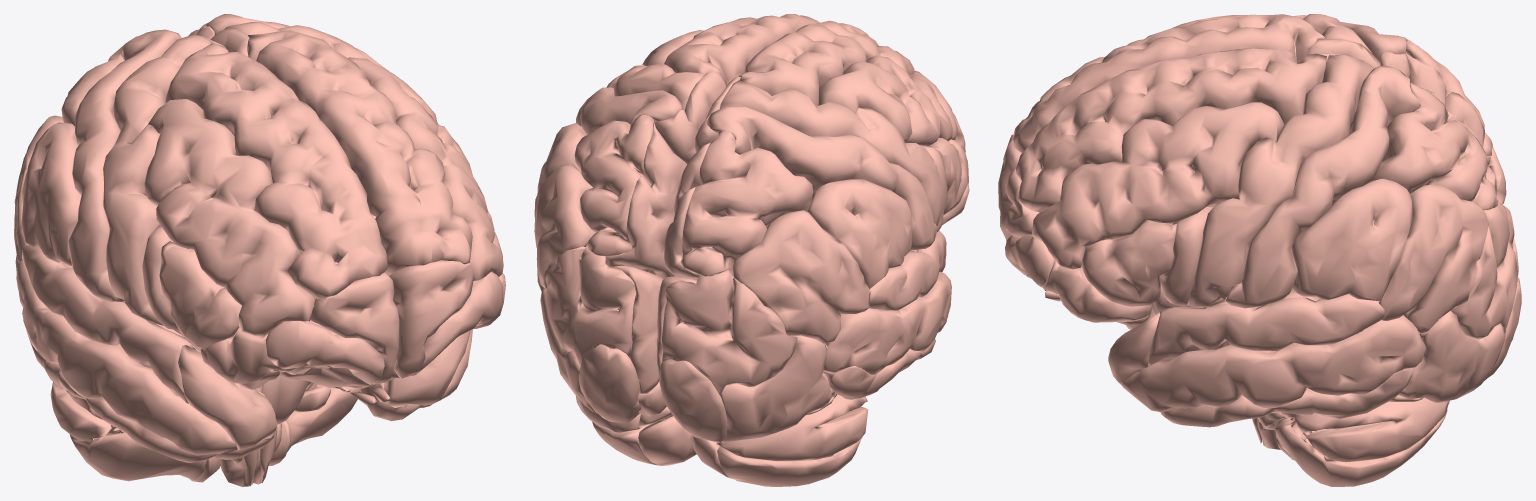
The model's file is human-brain.glb.
3 views of the same model, side by side, from view 1: azimuth 30°, elevation 25°; view 2: azimuth 150°, elevation 25°; view 3: azimuth 270°, elevation 25° (orthographic). The views are drawn at different scales.
Parts seen in each view (by area): view 1: Allen_olfactory_bulb_L; view 2: Allen_olfactory_bulb_L; view 3: Allen_olfactory_bulb_L.
Boxes of the visible parts, <box> form: Allen_olfactory_bulb_L: <box>14,14,505,486</box>; Allen_olfactory_bulb_L: <box>534,14,969,486</box>; Allen_olfactory_bulb_L: <box>998,14,1521,486</box>.
Size of the model in its own units: 0.1362 by 0.146 by 0.1669.
